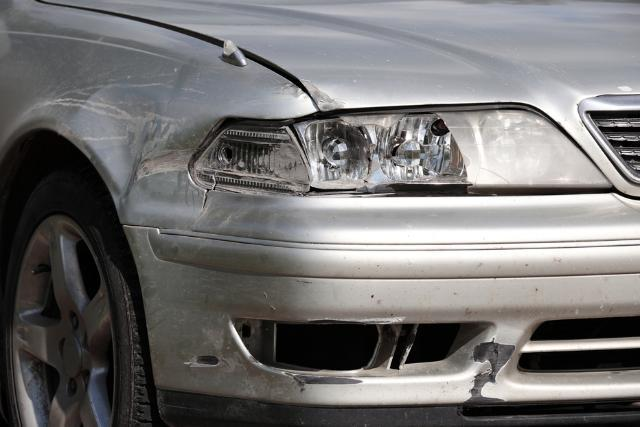Bumper: (137, 240, 550, 419)
Fender: (14, 52, 212, 209)
Light: (216, 113, 581, 188)
